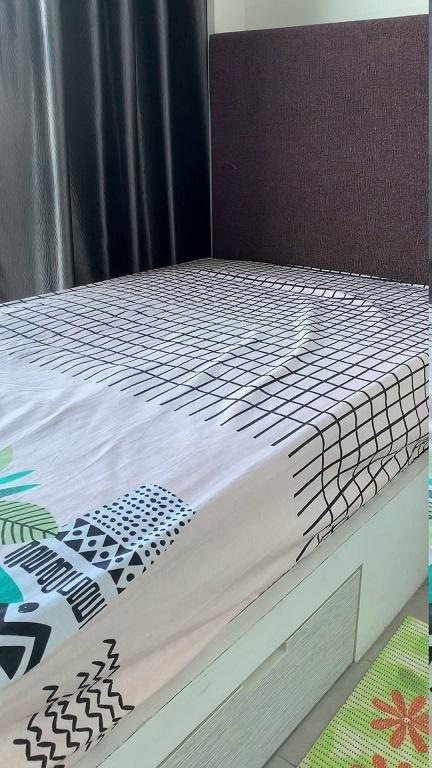bed: (0, 5, 432, 768)
